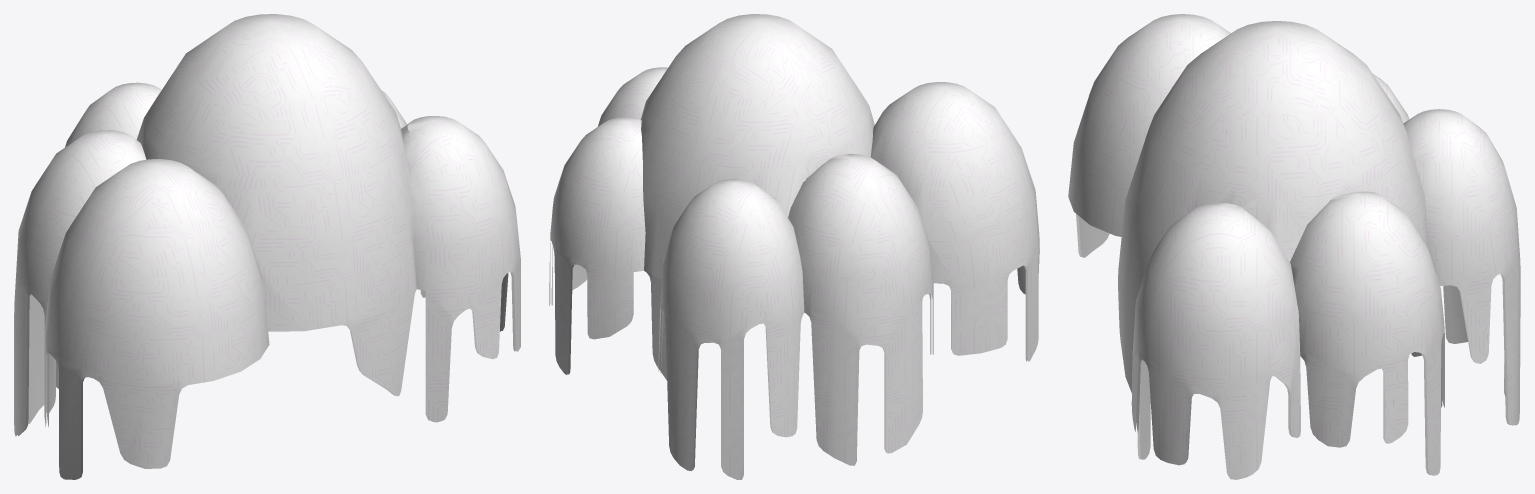
Rendered from Dome02_Art.fbx.
3 views of the same model, side by side, from view 1: azimuth 30°, elevation 25°; view 2: azimuth 150°, elevation 25°; view 3: azimuth 270°, elevation 25° (orthographic). The views are drawn at different scales.
Parts seen in each view (by area): view 1: Dome02_Art; view 2: Dome02_Art; view 3: Dome02_Art.
Boxes of the visible parts, box(x1,y1,x2,y2) form: Dome02_Art: box(14, 14, 520, 479); Dome02_Art: box(549, 14, 1039, 479); Dome02_Art: box(1068, 14, 1520, 479).
Size of the model in its own units: 41.38 by 34.61 by 34.2.
